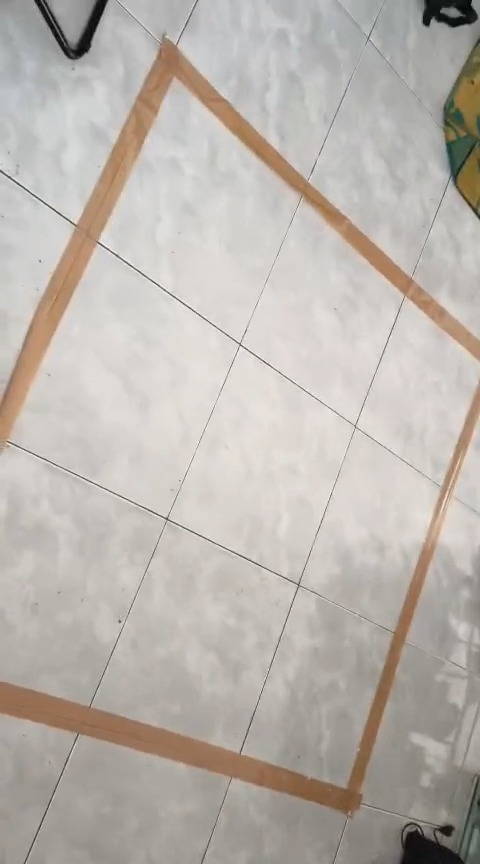floor marking: (0, 383, 479, 814), (1, 38, 479, 443)
